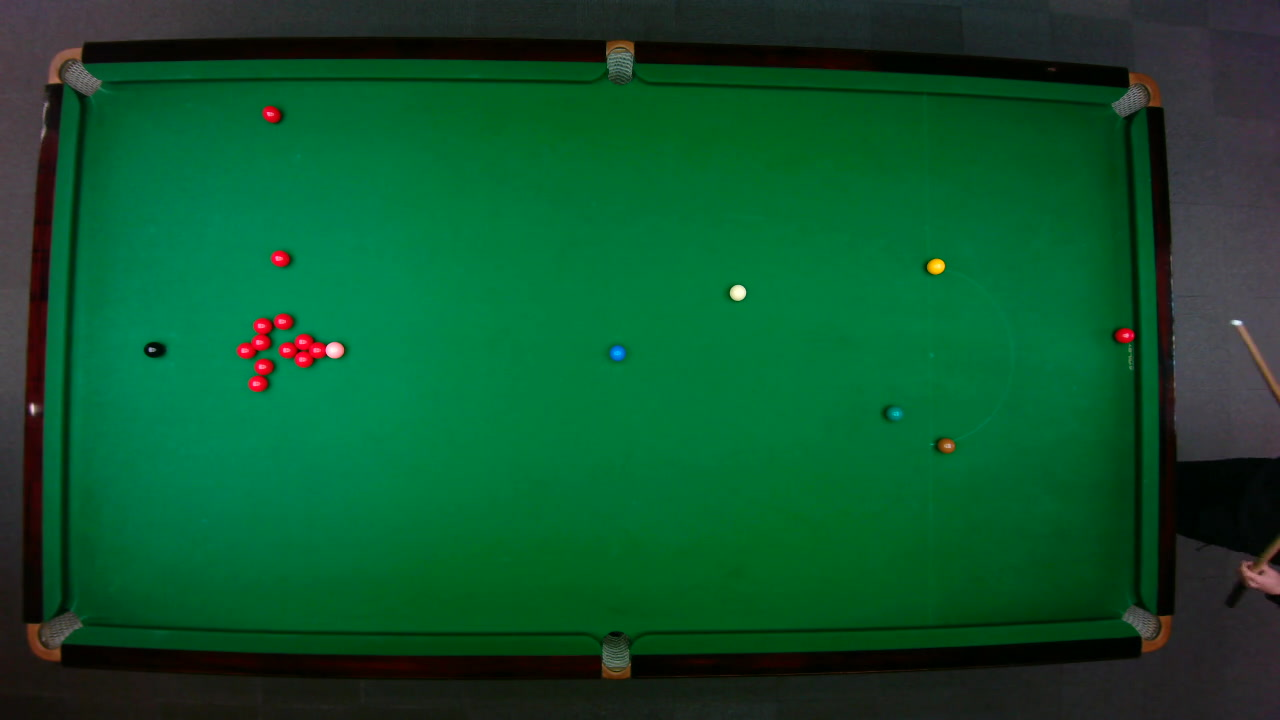bag: (25, 609, 84, 661), (45, 46, 101, 96), (1119, 603, 1172, 652), (1108, 71, 1161, 118), (600, 629, 630, 680), (605, 38, 633, 85)
black: (142, 340, 164, 358)
blue: (608, 344, 626, 361)
brown: (935, 436, 956, 453)
cue: (1231, 316, 1279, 408)
green: (883, 404, 904, 421)
pink: (323, 340, 345, 359)
red: (260, 104, 282, 123), (234, 341, 256, 359), (252, 357, 274, 375), (246, 374, 268, 392), (1112, 326, 1135, 343), (269, 249, 290, 267), (251, 316, 272, 334), (292, 350, 314, 367), (277, 340, 297, 358), (249, 333, 270, 350), (272, 312, 293, 329), (307, 340, 325, 359), (293, 332, 313, 349)
white: (728, 283, 747, 301)
yellow: (925, 256, 946, 274)
zone: (927, 265, 1013, 444)
